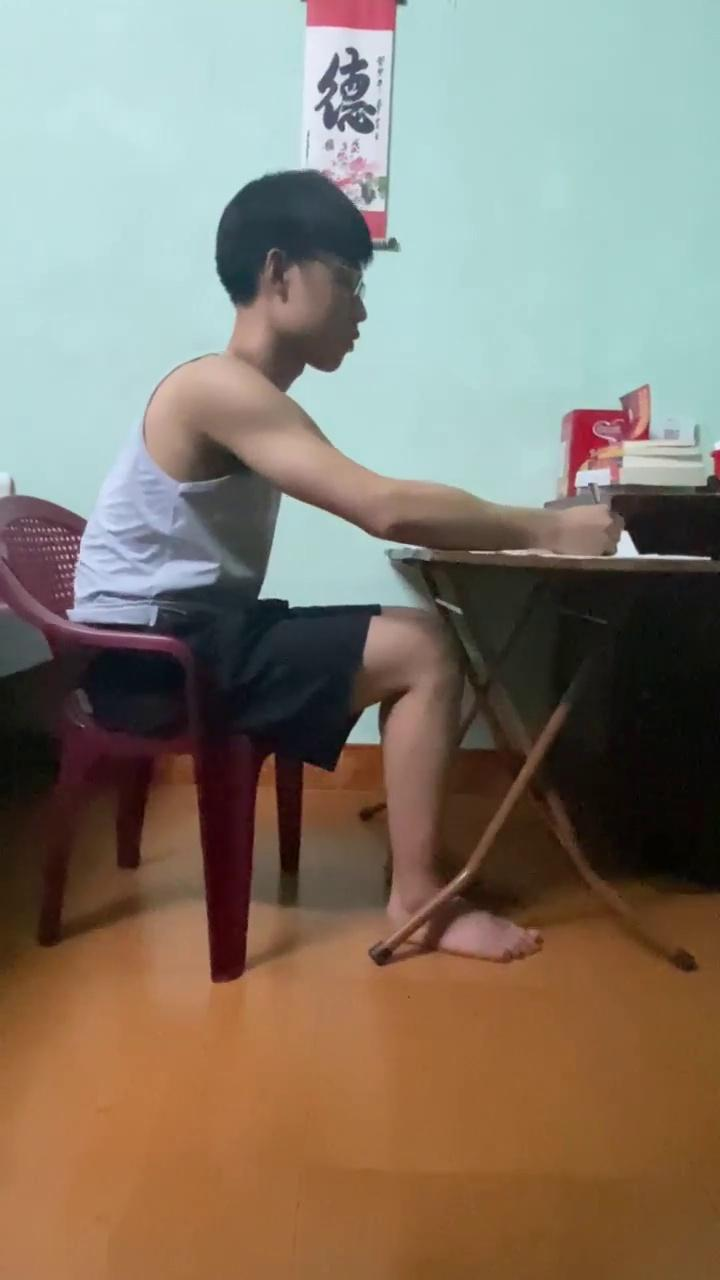BadPosture: (75, 169, 569, 926)
